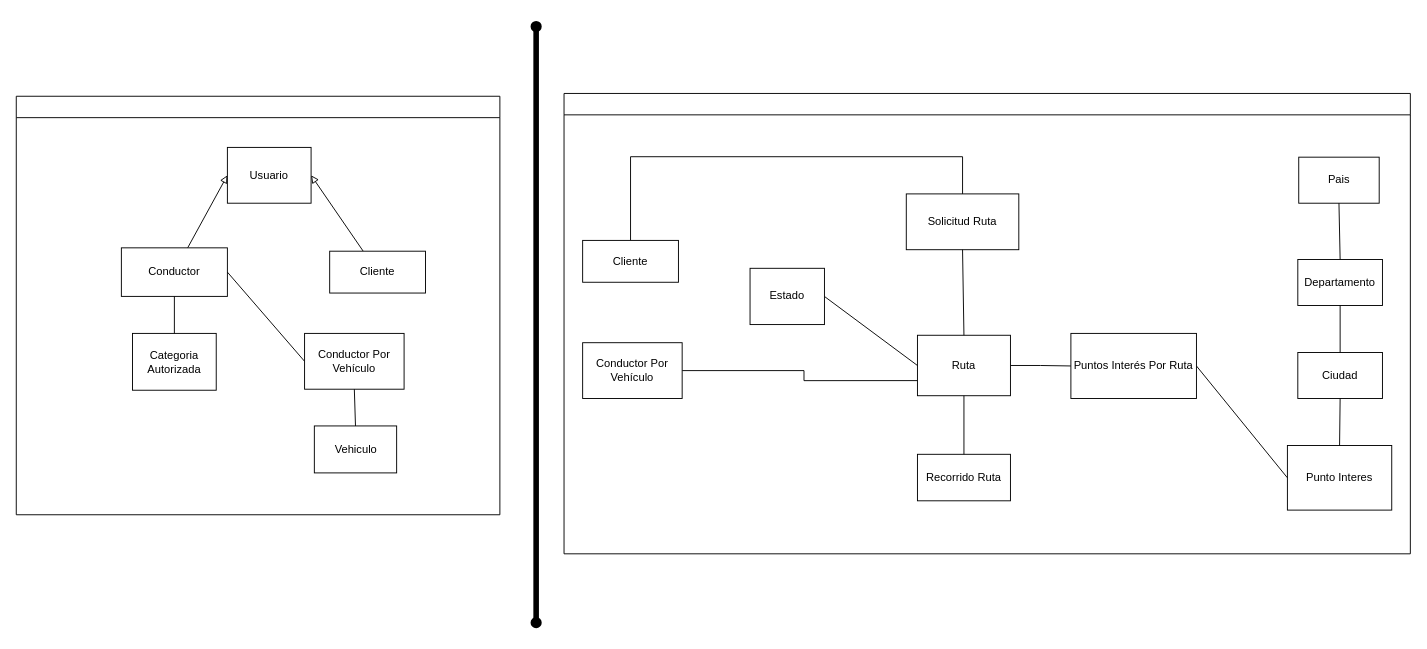
The diagram is 1427 pixels wide and 649 high, and some of its shapes have lost their labels. The shapes that lost their labels are listed below. From the top down, each one's centre as x and y in pixels, then its label:
the point at 257,305: Gestionar Usuarios
the point at 986,323: Servicio De Rutas
